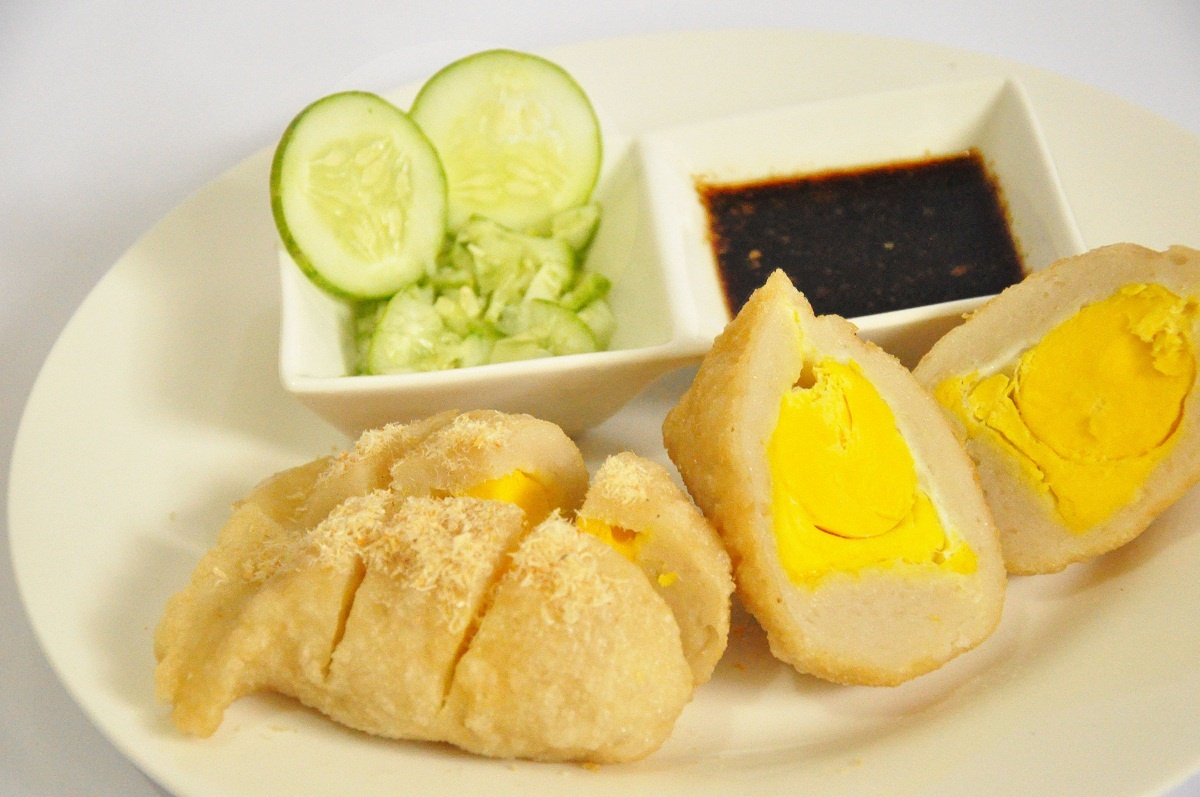pempek: (665, 243, 1197, 685), (136, 412, 740, 754)
